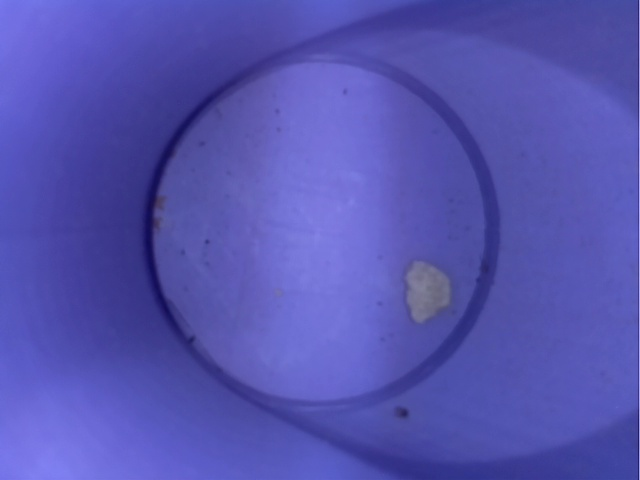caillou: (395, 247, 455, 333)
